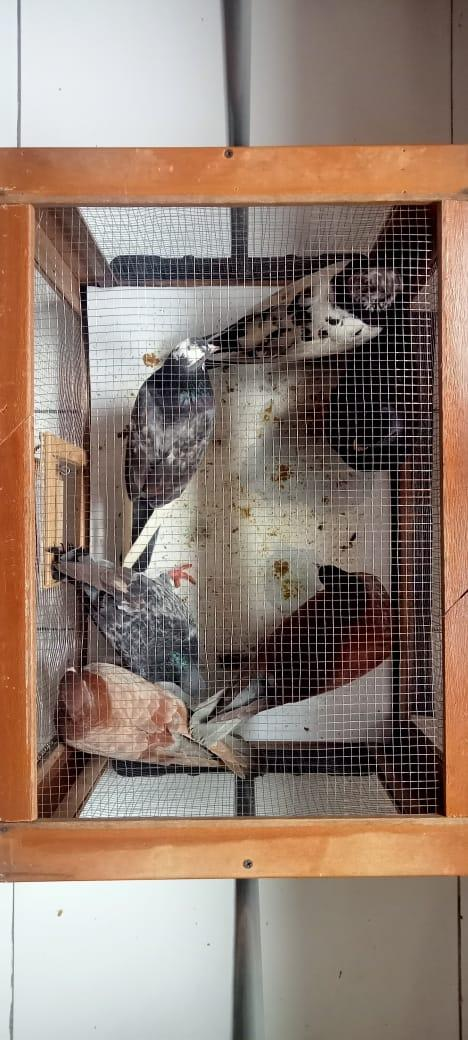Merpati: (188, 563, 394, 746), (53, 659, 266, 778), (46, 544, 205, 700), (119, 336, 222, 574), (200, 259, 406, 363), (325, 306, 417, 471)
